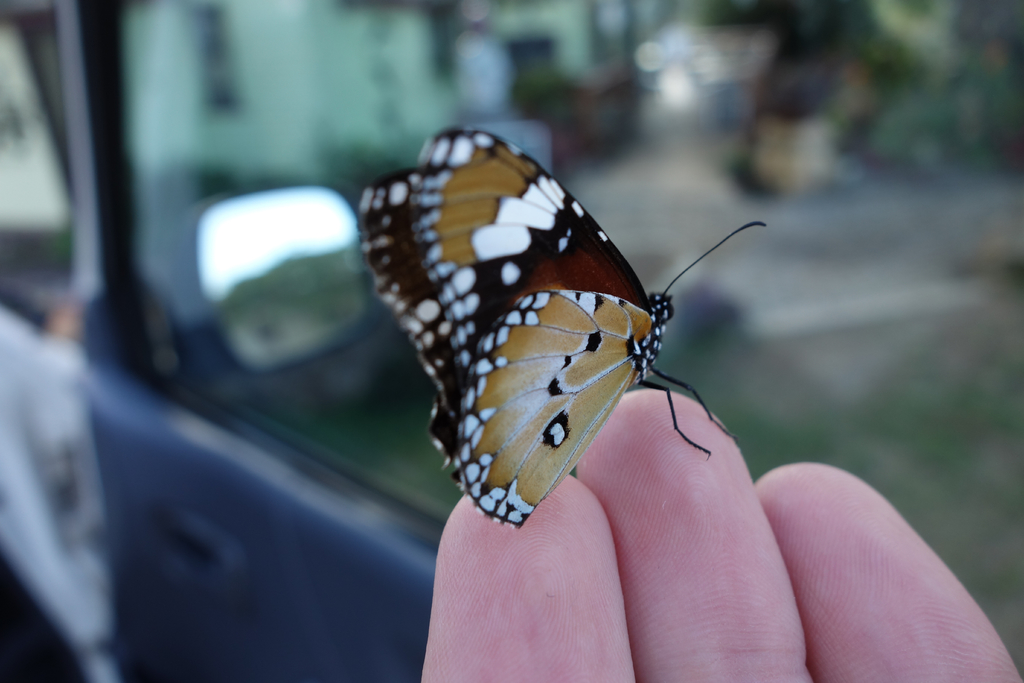Butterfly: (349, 103, 680, 542)
